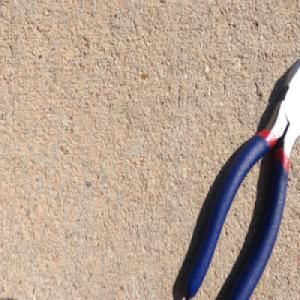Pliers: (182, 55, 300, 300)
